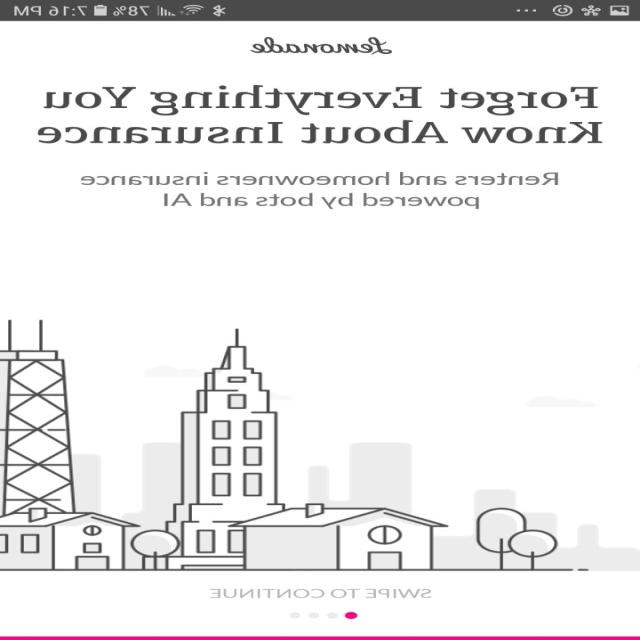Image: (1, 319, 640, 570), (251, 37, 393, 55)
Text: (38, 86, 604, 144), (81, 172, 559, 209), (211, 588, 432, 598)
